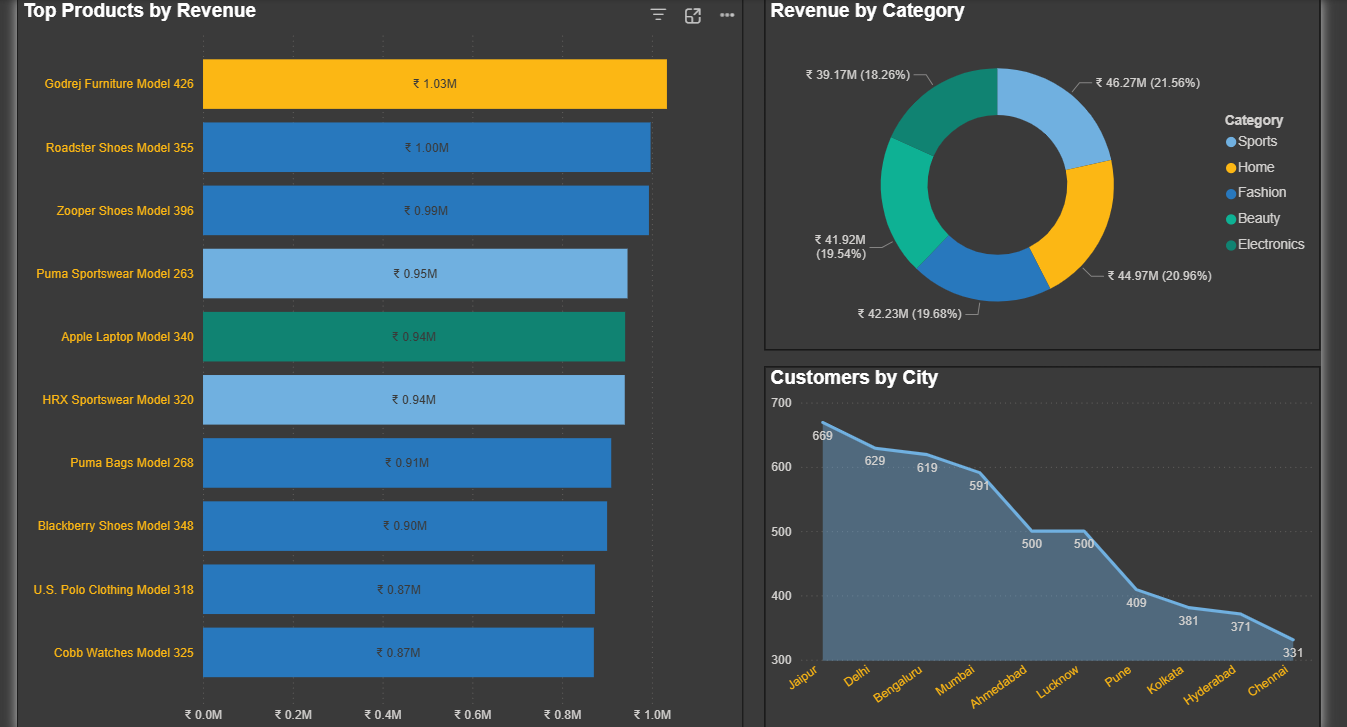

Layout of this report page (visuals, bound fields, positions):
{"tool":"powerbi","page":{"name":"Analysis-2","canvas":[1280,720],"ordinal":3},"visuals":[{"type":"donutChart","title":"Revenue by Category","fields":{"Category":["Product_Catalogue.Category"],"Y":["Sum(Orders_Catalogue.Total_Amount)"]},"box":[734.1,0,545.9,344.9],"z":0},{"type":"clusteredBarChart","title":"Top Products by Revenue","fields":{"Category":["Orders_Catalogue.Product_Name"],"Y":["Sum(Orders_Catalogue.Total_Amount)"]},"box":[0,0,712.7,719.8],"z":1000},{"type":"stackedAreaChart","title":"Customers by City","fields":{"Category":["Customer_Catalogue.City"],"Y":["Count(Customer_Catalogue.Customer_ID)"]},"box":[734.1,360.6,545.9,359.2],"z":2000}]}

Visuals, with their boxes on the page's 1280x720 design canvas (x1, y1, x2, y2). These are canvas units, not pixel positions in the 1347x727 screenshot, which may show the page scaled, cropped or inside an application window:
"Revenue by Category" donutChart: (left=734, top=0, right=1280, bottom=345)
"Top Products by Revenue" clusteredBarChart: (left=0, top=0, right=713, bottom=720)
"Customers by City" stackedAreaChart: (left=734, top=361, right=1280, bottom=720)
